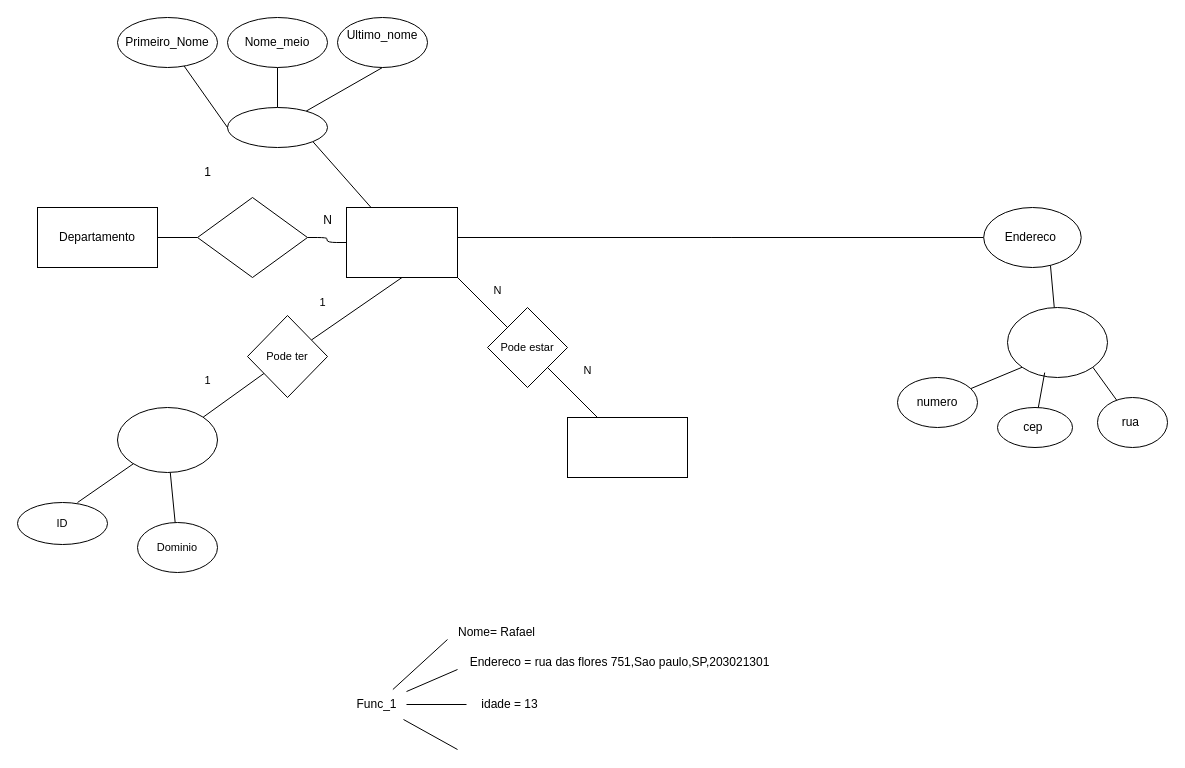
Image size: 1185x768. Some labels were removed from this diagram. Here are the shapes that lost their labels. From the top down, the centre of each, then its label:
point (277, 127): Nome
point (252, 237): Trabalha para
point (402, 242): Funcionario
point (1057, 342): Logradouro
point (167, 439): Usuario
point (627, 447): Projeto
